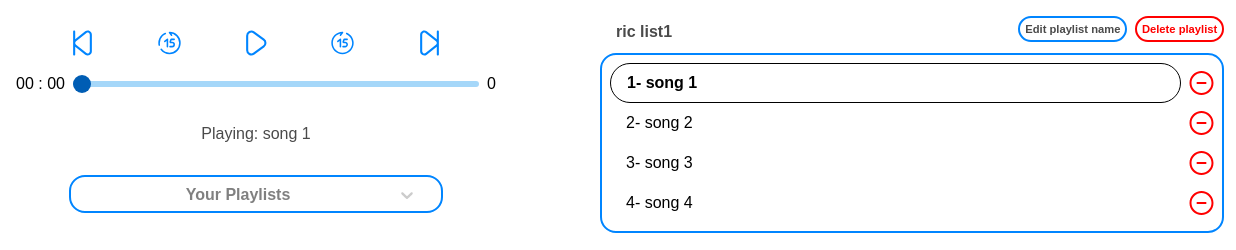
Test: Songs list › 7- after forward button is clicked 4 times the song playing has to be the first song of the playlist
Step 1. Click the icon with test id "forwardButton" → (430, 43), box [417,27,442,59]
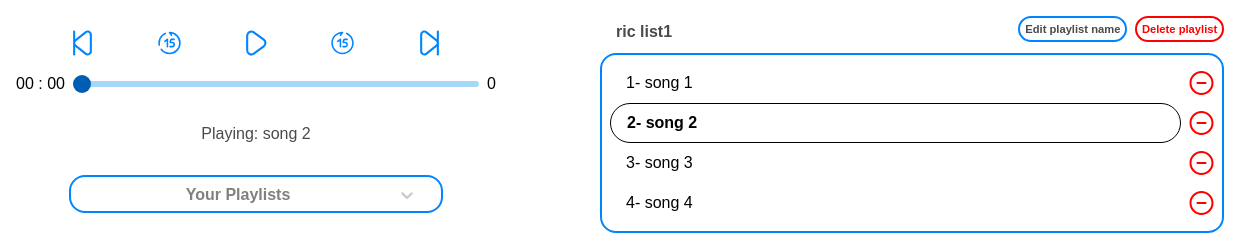
Step 2. Click the icon with test id "forwardButton" → (430, 43), box [417,27,442,59]
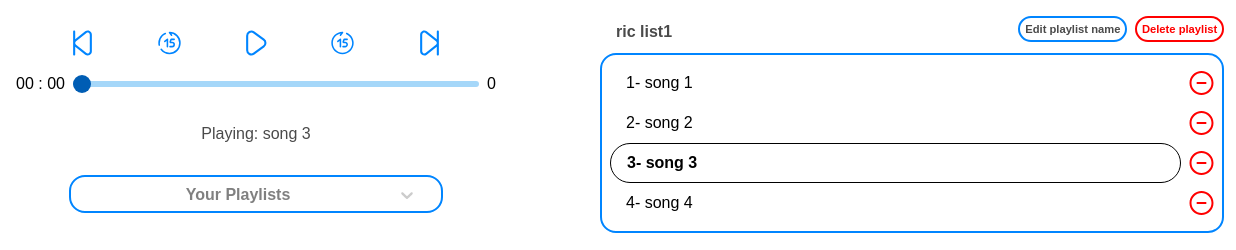
Step 3. Click the icon with test id "forwardButton" → (430, 43), box [417,27,442,59]
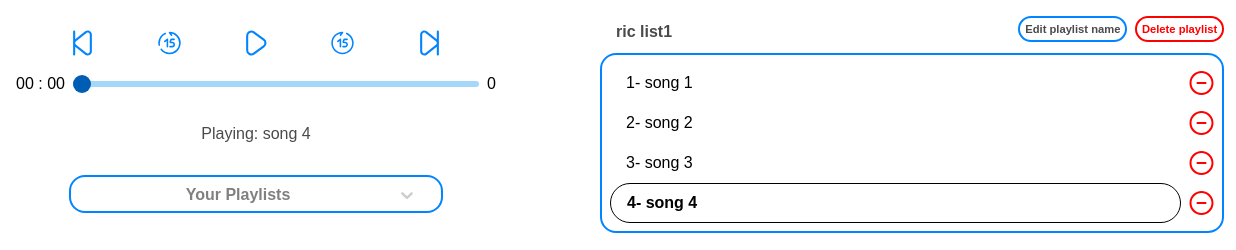
Step 4. Click the icon with test id "forwardButton" → (430, 43), box [417,27,442,59]
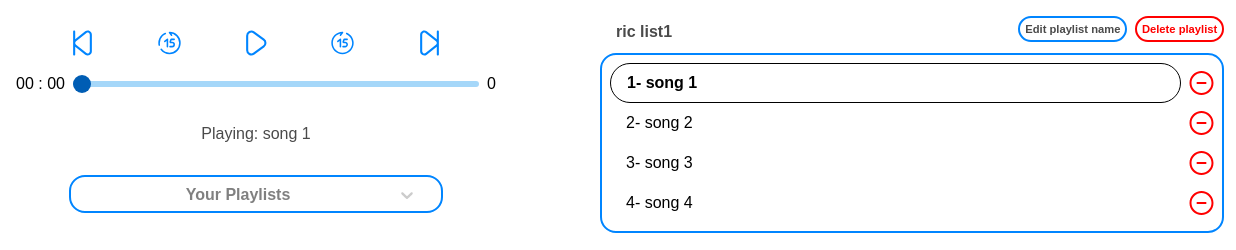
Expected: the text "Playing: song 1" is shown, [201,125,311,143]
